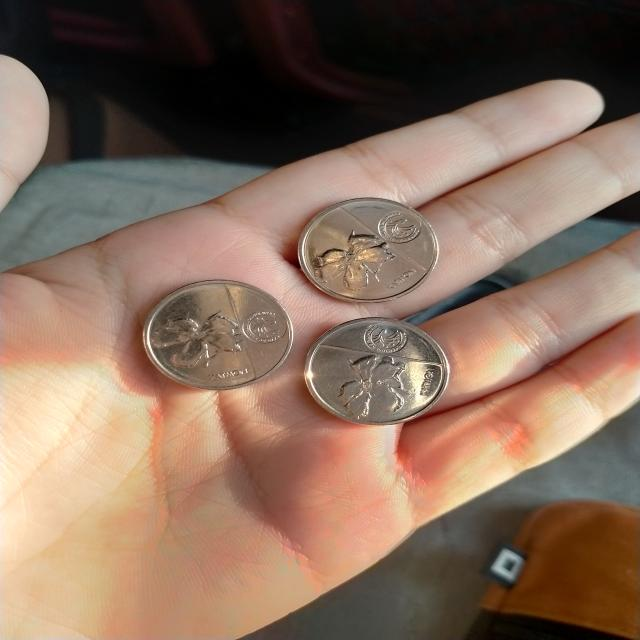25Cent_New_Back: (314, 232, 408, 294), (156, 310, 246, 372), (337, 349, 410, 412)
